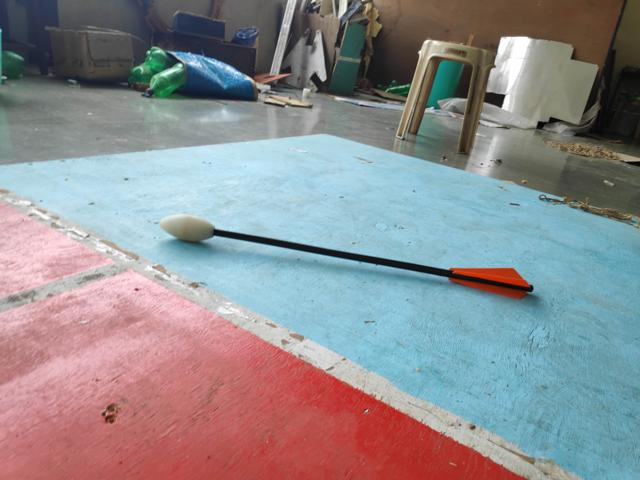Head: (157, 213, 217, 244)
Tail: (446, 262, 539, 301)
